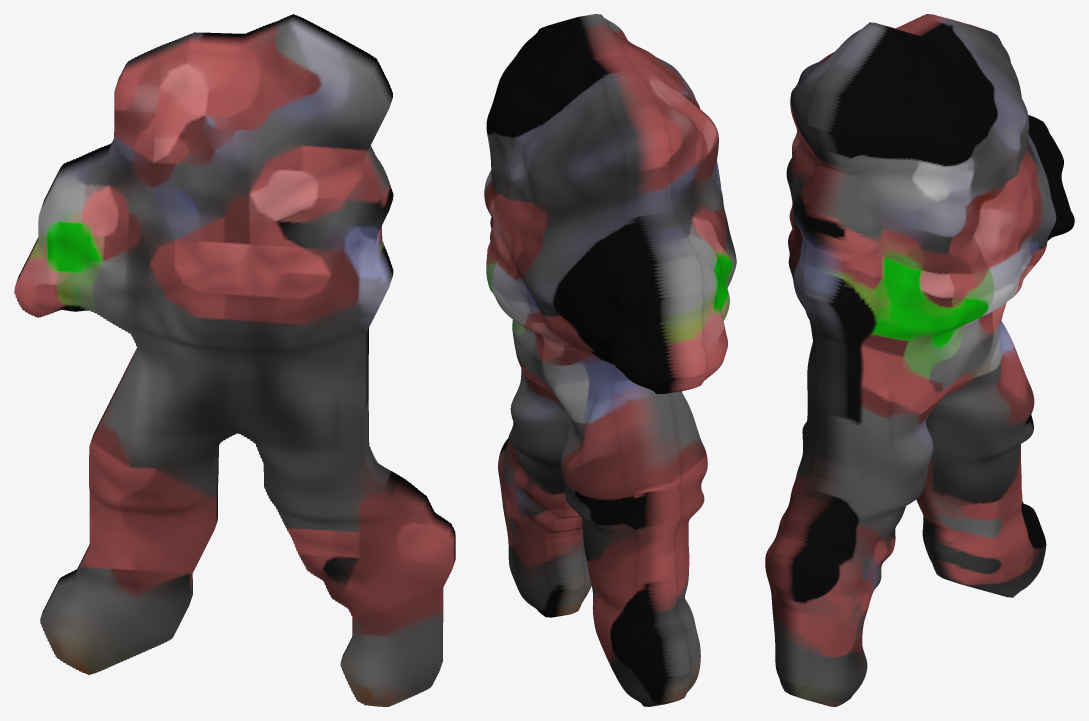
The model's file is desolator.glb.
3 views of the same model, side by side, from view 1: azimuth 30°, elevation 25°; view 2: azimuth 150°, elevation 25°; view 3: azimuth 270°, elevation 25° (orthographic). The views are drawn at different scales.
Parts seen in each view (by area): view 1: desolator; view 2: desolator; view 3: desolator.
Part boxes in pixels (x1,y1,x2,y2): desolator: [14, 14, 455, 706]; desolator: [484, 14, 736, 706]; desolator: [765, 14, 1074, 706].
Bounding box in the file's own units: 1.12 × 2.23 × 0.9658.
